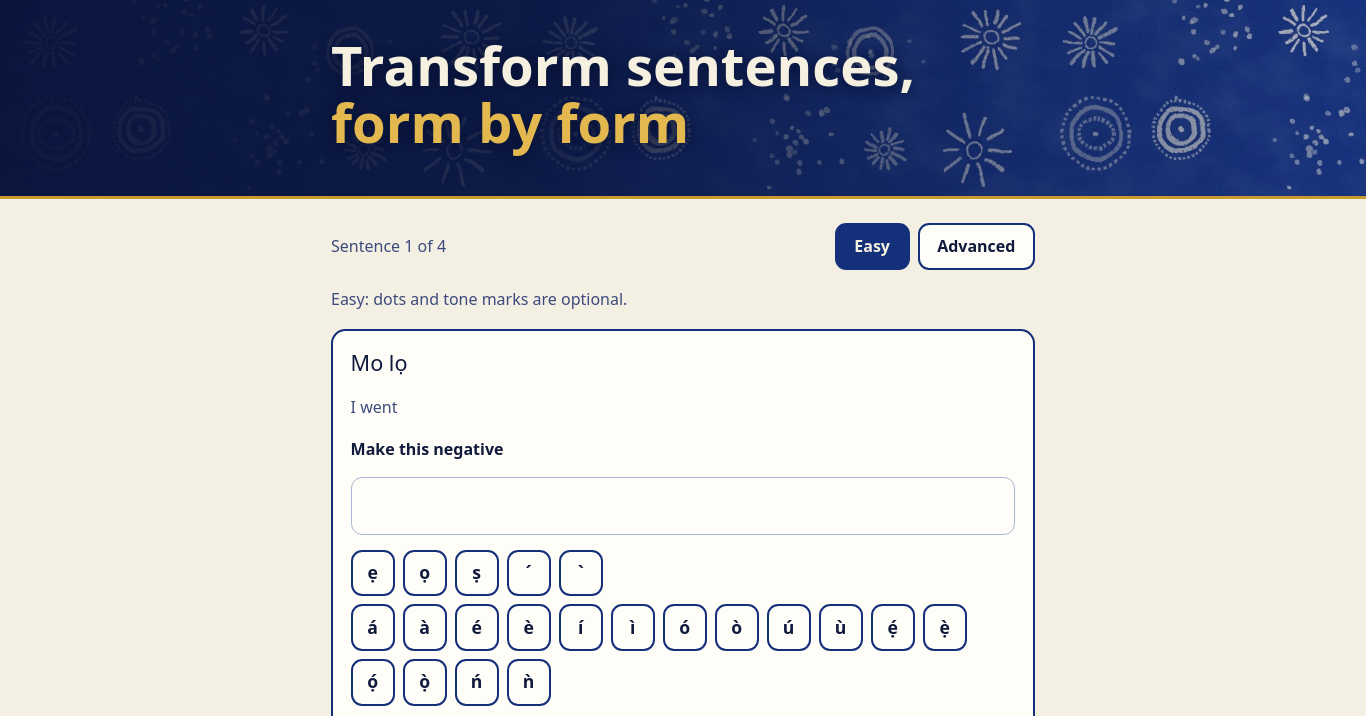
Test: Transform page › locks the box after checking, then Next and Previous keep it as left
In the field with test id "transform-input": (683, 506) 351,477 -> 1015,535, type "Mi ò lọ"
(page scrolled)
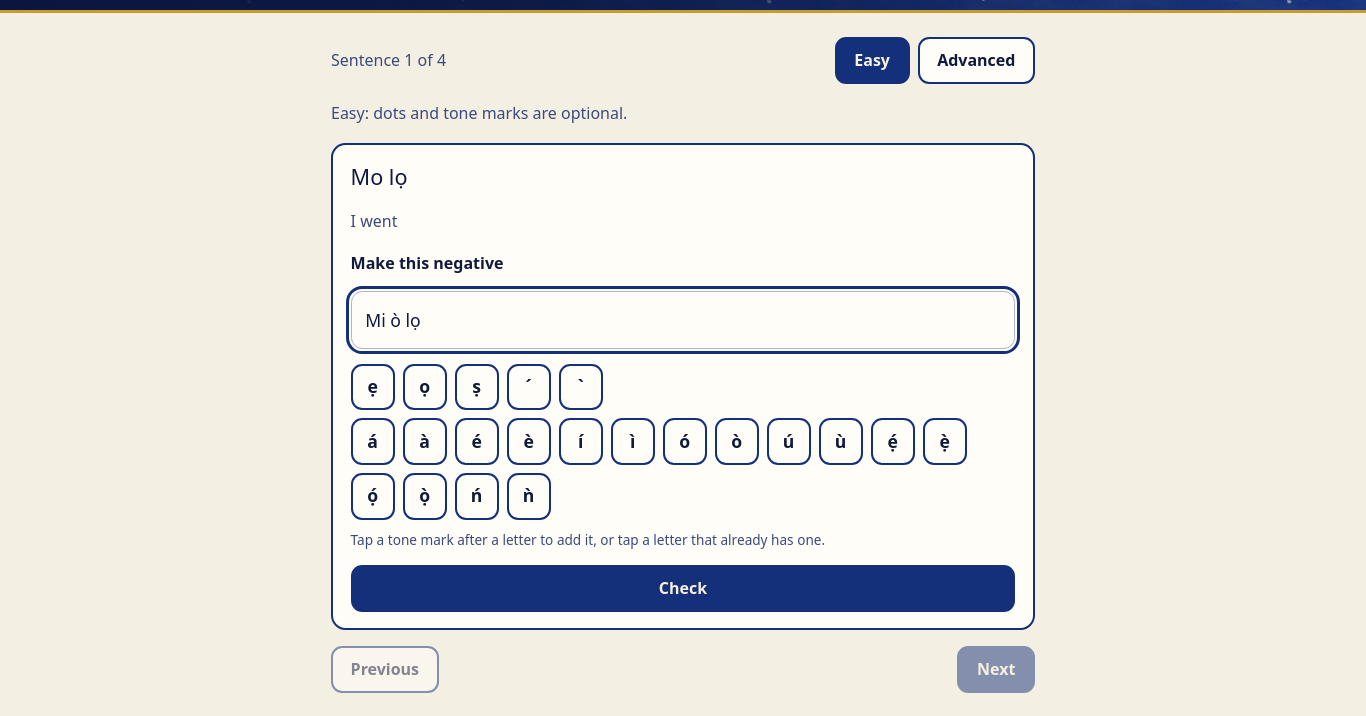
Click the button "Check": (683, 589) 351,565 -> 1015,612
(page scrolled)
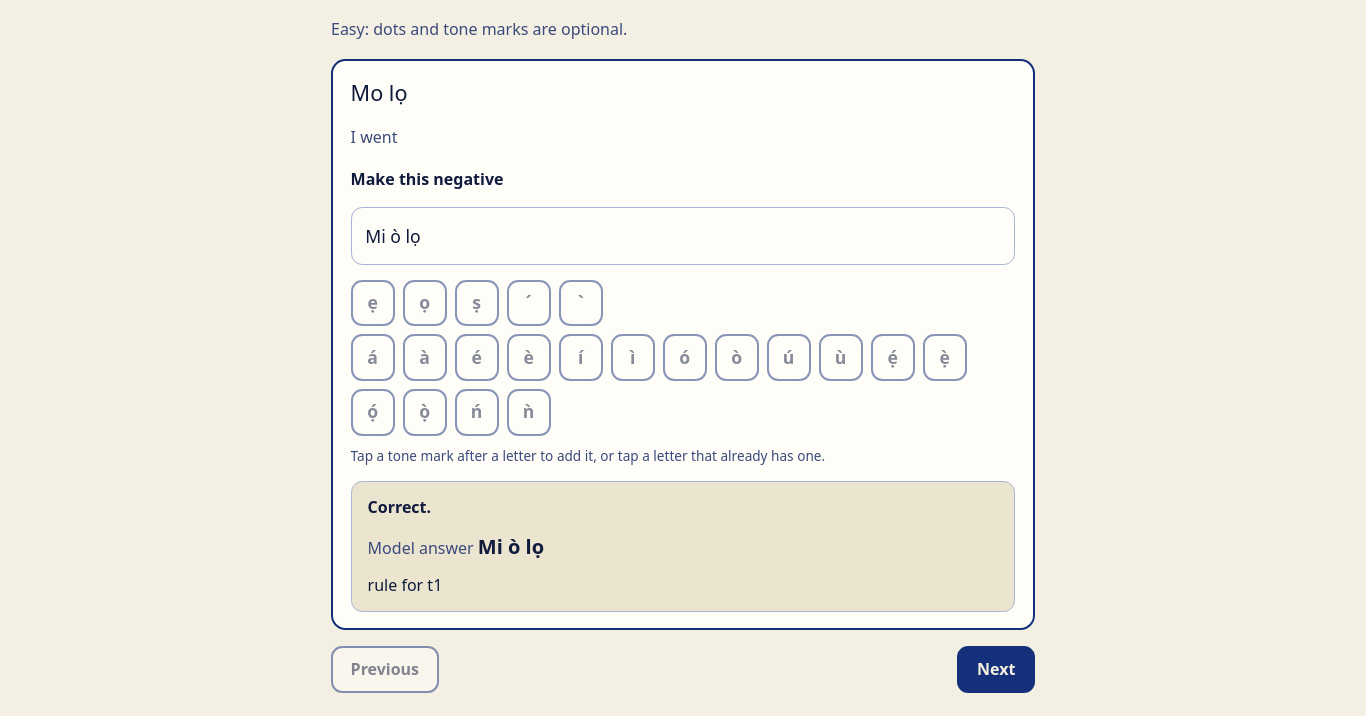
Expected: the field with test id "transform-input" is disabled, 351,207 -> 1015,265
Click the button "Next": (996, 670) 958,646 -> 1035,694
(page scrolled)
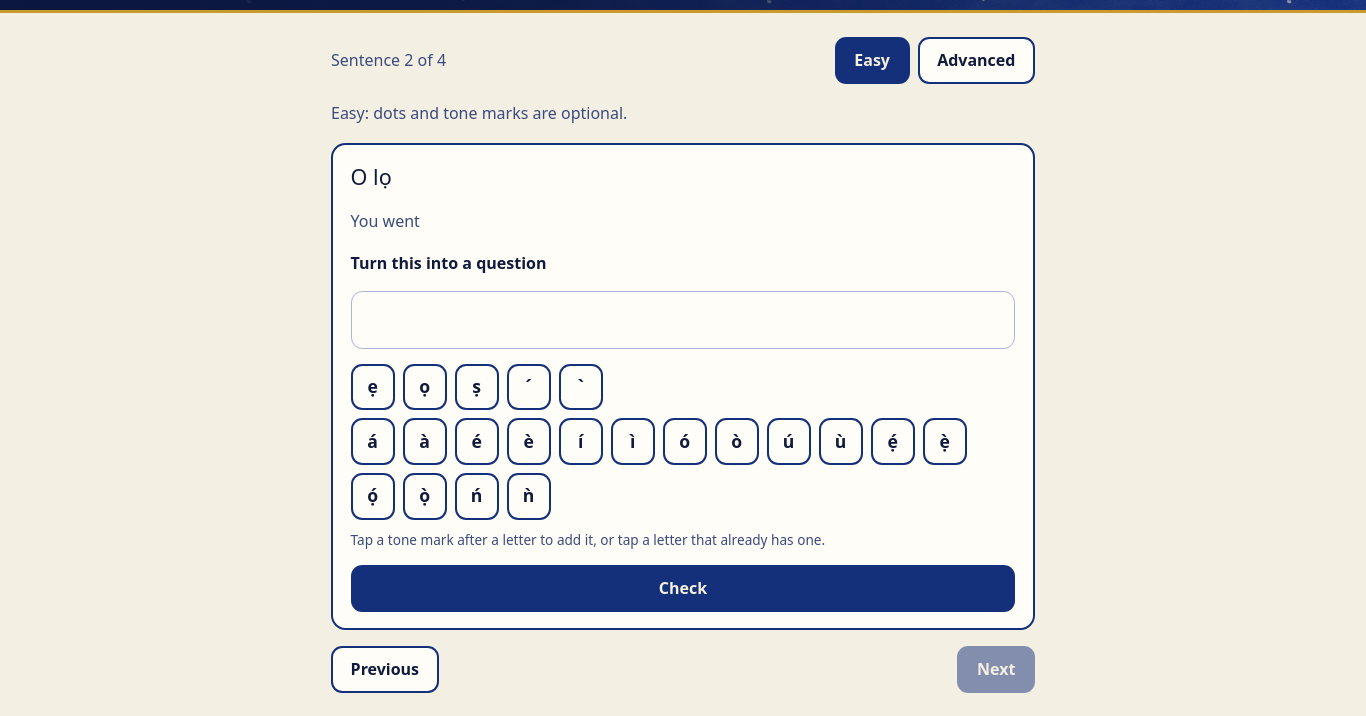
Expected: the text with test id "transform-position" reads "Sentence 2 of 4", 331,47 -> 446,74
Expected: the field with test id "transform-input" is empty, 351,291 -> 1015,349
Click the button "Previous": (385, 670) 331,646 -> 439,694
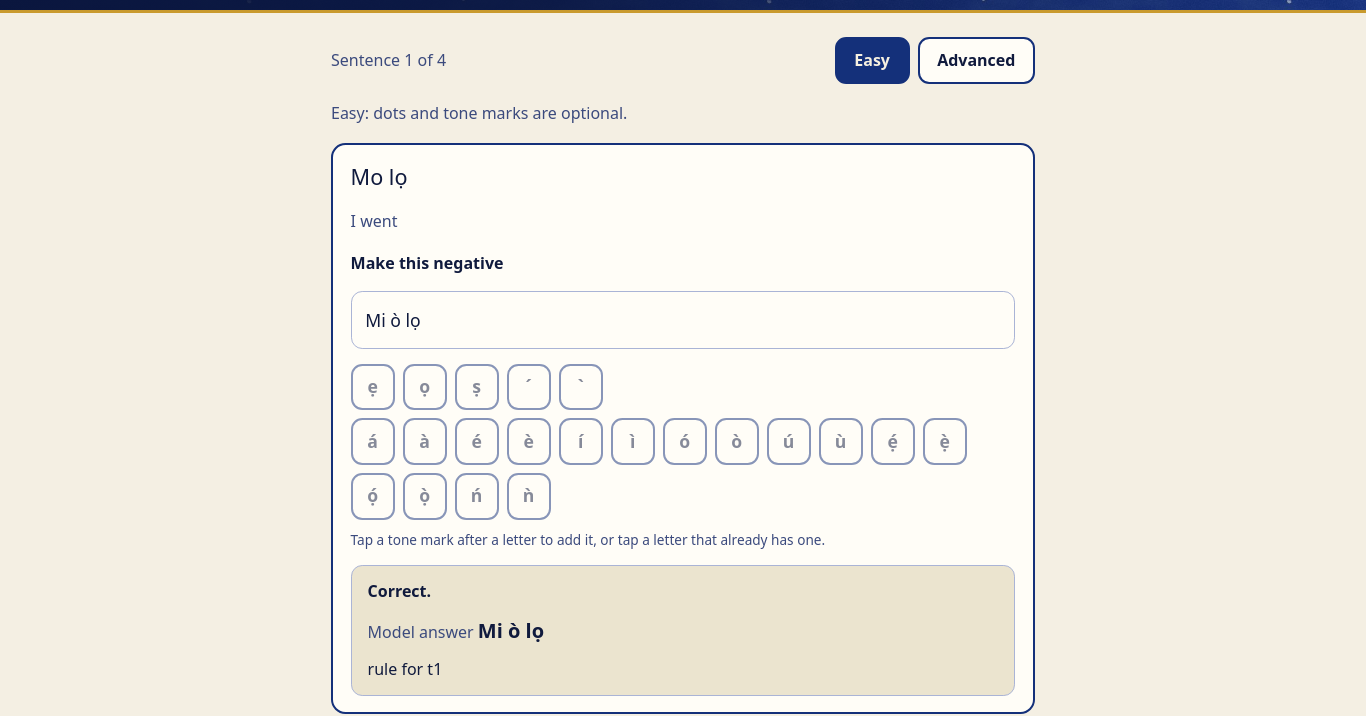
Expected: the text with test id "transform-position" reads "Sentence 1 of 4", 331,47 -> 446,74
Expected: the field with test id "transform-input" is disabled, 351,291 -> 1015,349
Expected: the field with test id "transform-input" holds "Mi ò lọ", 351,291 -> 1015,349
